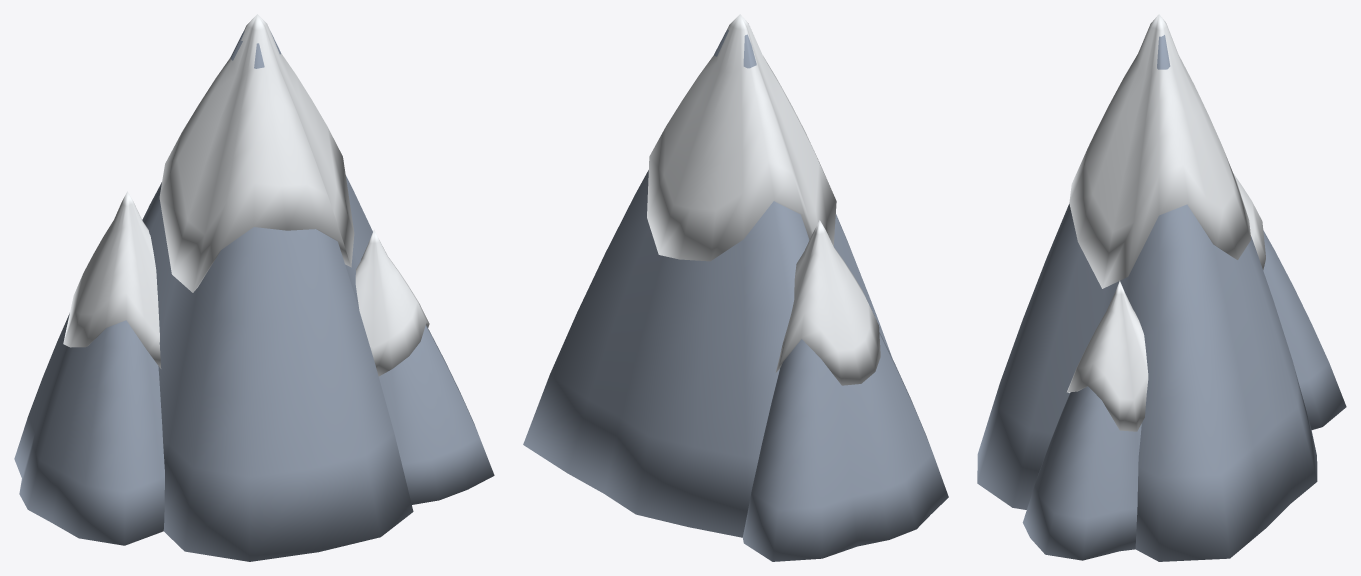
Rendered from alpine-crag-tall.glb.
The picture shows the model from 3 angles, left to right: view 1: azimuth 30°, elevation 25°; view 2: azimuth 150°, elevation 25°; view 3: azimuth 270°, elevation 25°; orthographic projection. The views are drawn at different scales.
Visible parts, largest first — view 1: Peak_0, SnowCap_0, Peak_1, Peak_2, SnowCap_1, SnowCap_2; view 2: Peak_0, Peak_1, SnowCap_0, SnowCap_1; view 3: Peak_0, SnowCap_0, Peak_2, SnowCap_2, Peak_1, SnowCap_1.
Part boxes in pixels (x1,y1,x2,y2): Peak_0: (142,30,413,561); SnowCap_0: (159,14,354,292); Peak_1: (14,313,164,545); Peak_2: (379,325,494,504); SnowCap_1: (63,191,161,368); SnowCap_2: (355,229,429,376); Peak_0: (523,29,892,537); Peak_1: (742,332,948,561); SnowCap_0: (647,14,836,261); SnowCap_1: (775,220,880,385); Peak_0: (977,35,1317,561); SnowCap_0: (1069,14,1251,288); Peak_2: (1022,386,1141,560); SnowCap_2: (1067,281,1148,431); Peak_1: (1263,230,1346,429); SnowCap_1: (1233,173,1265,269).
Size of the model in its own units: 1.74 by 1.92 by 1.41.
